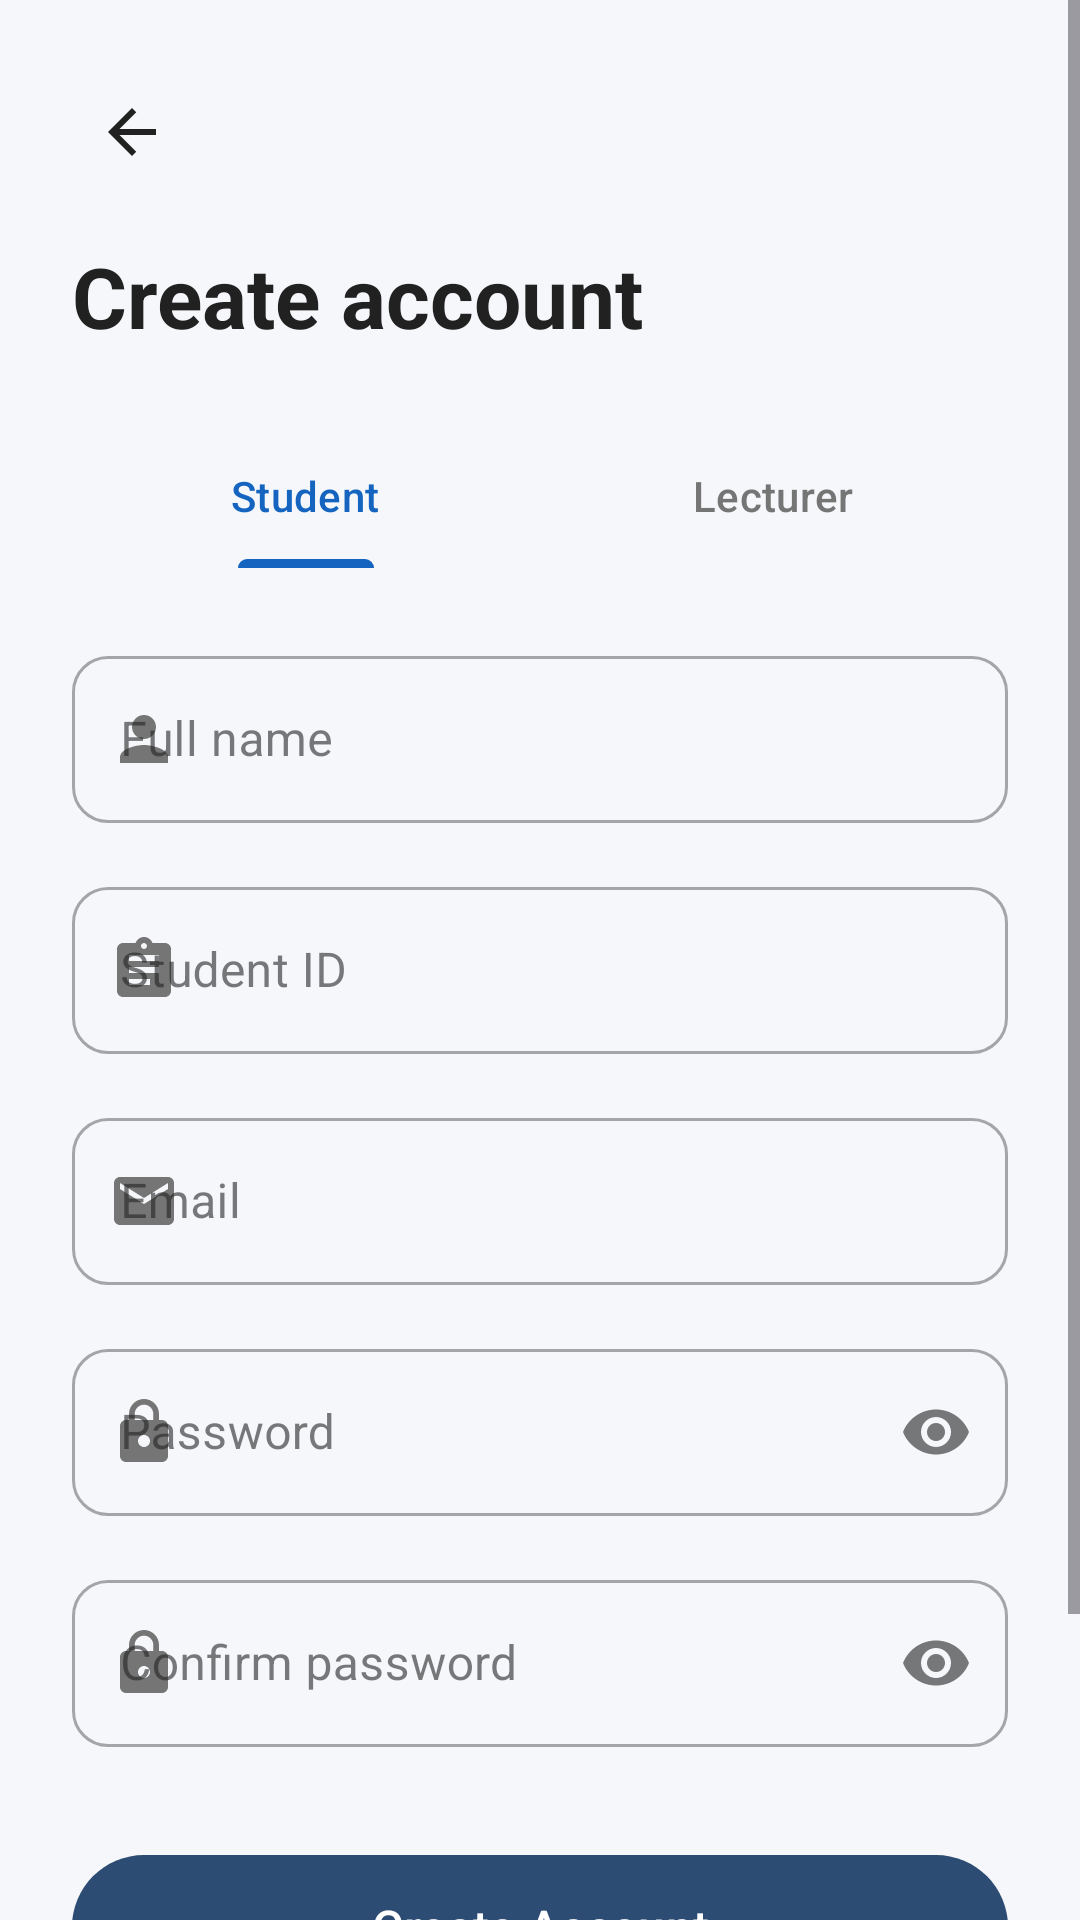

Icons on this 1080px x 1920px Android screen, each with the point to tap as [x,y]:
back: [132,132]
